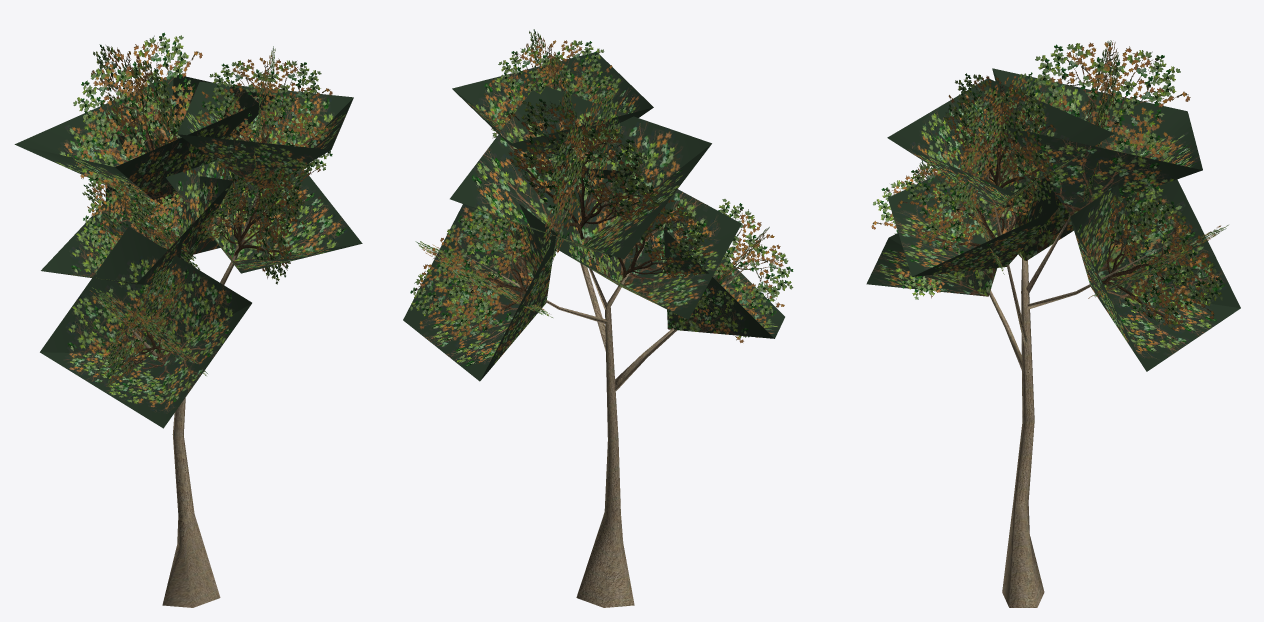
The model's file is decd_mapletreeleaves_l1.fbx.
3 renders of one model, left to right at view 1: azimuth 30°, elevation 25°; view 2: azimuth 150°, elevation 25°; view 3: azimuth 270°, elevation 25°, orthographic. The views are drawn at different scales.
Parts seen in each view (by area): view 1: mesh_node; view 2: mesh_node; view 3: mesh_node.
Boxes of the visible parts, box(x1,y1,x2,y2) form: mesh_node: box(14, 32, 362, 607); mesh_node: box(403, 29, 793, 607); mesh_node: box(866, 40, 1240, 607).
Bounding box in the file's own units: 10.07 × 16.47 × 10.56.
